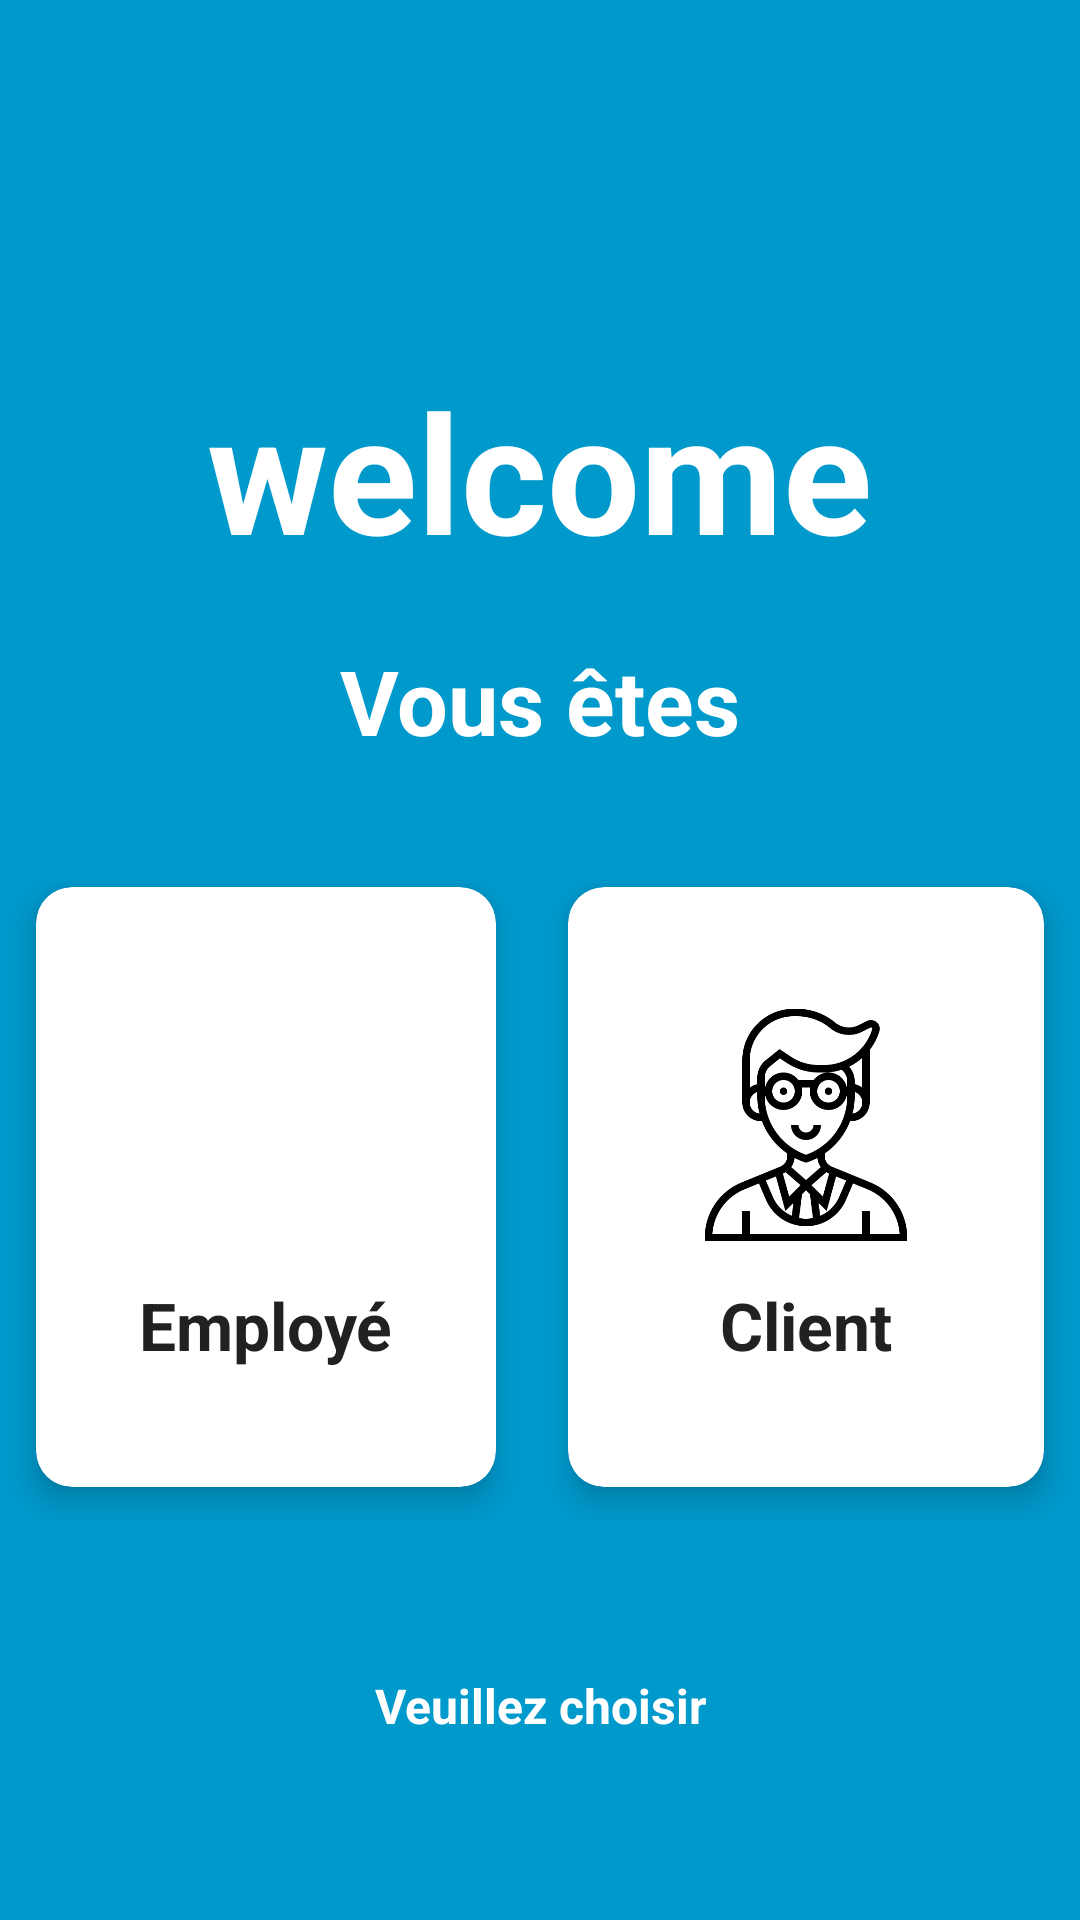

Screen size 1080px×1920px. Icon name, then its center in pixels as (x=x, y=y):
manager: (x=806, y=1125)
